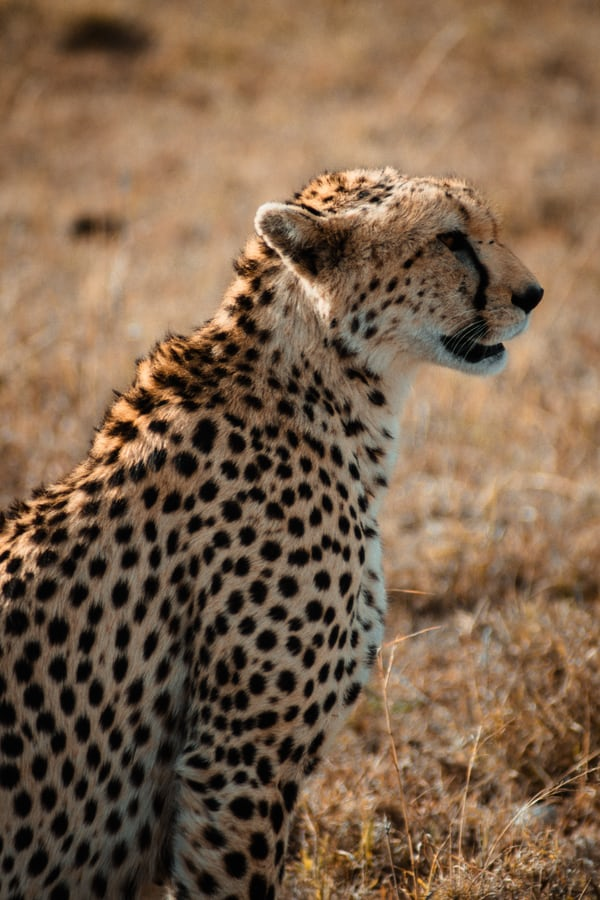cheetah: (227, 141, 565, 425)
